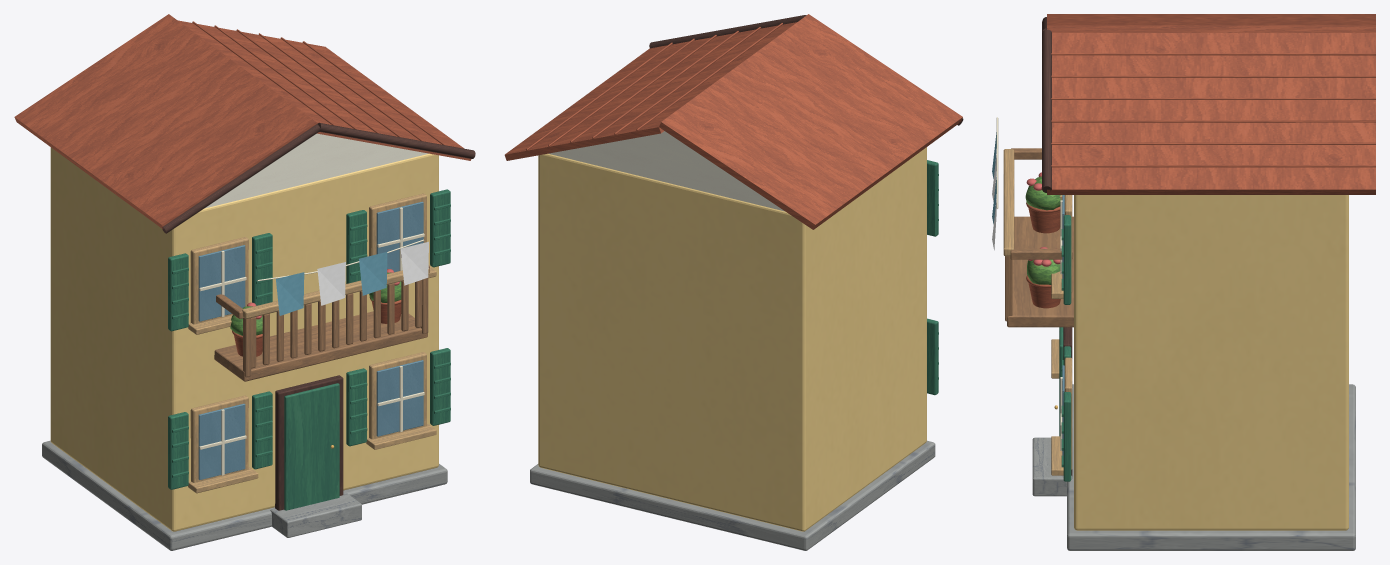
Rendered from house_2.glb.
The picture shows the model from 3 angles, left to right: view 1: azimuth 30°, elevation 25°; view 2: azimuth 150°, elevation 25°; view 3: azimuth 270°, elevation 25°; orthographic projection. The views are drawn at different scales.
Parts seen in each view (by area): view 1: house_2; view 2: house_2; view 3: house_2.
Part boxes in pixels (bbox=[...]): house_2: bbox=[14, 14, 475, 550]; house_2: bbox=[504, 14, 963, 550]; house_2: bbox=[992, 14, 1375, 550].
Bounding box in the file's own units: 5.26 × 6.49 × 5.02.
3 materials, 3 textured.
